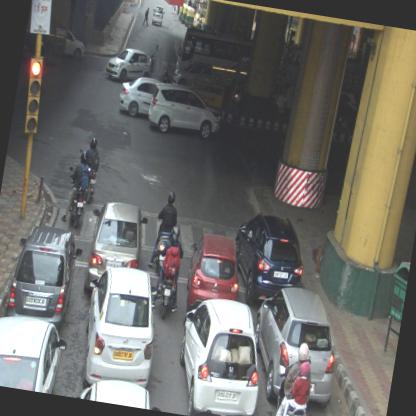bus: (174, 27, 252, 86)
car: (243, 283, 346, 413), (72, 261, 165, 397), (170, 292, 272, 415), (3, 222, 86, 326), (226, 210, 310, 308), (80, 198, 150, 302), (0, 309, 70, 395), (180, 230, 245, 315), (146, 78, 226, 141), (115, 74, 161, 121), (102, 45, 150, 85), (172, 58, 221, 90), (150, 4, 165, 26)
motorcycle: (148, 222, 188, 322), (271, 338, 320, 415), (148, 187, 182, 275), (60, 148, 93, 228), (76, 136, 104, 204)
